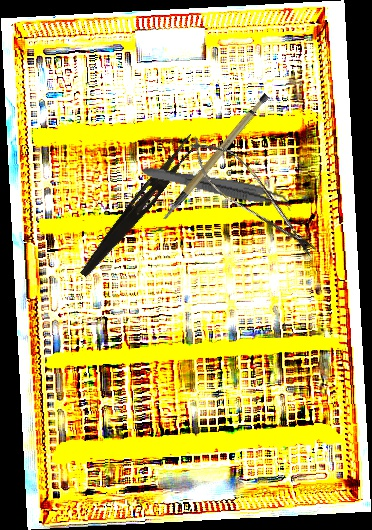Dressing Forceps: (77, 129, 201, 284)
Micro Scissor: (178, 126, 328, 267)
Scalpel Handle: (144, 91, 284, 221)
Tissue Forceps: (139, 164, 296, 212)
